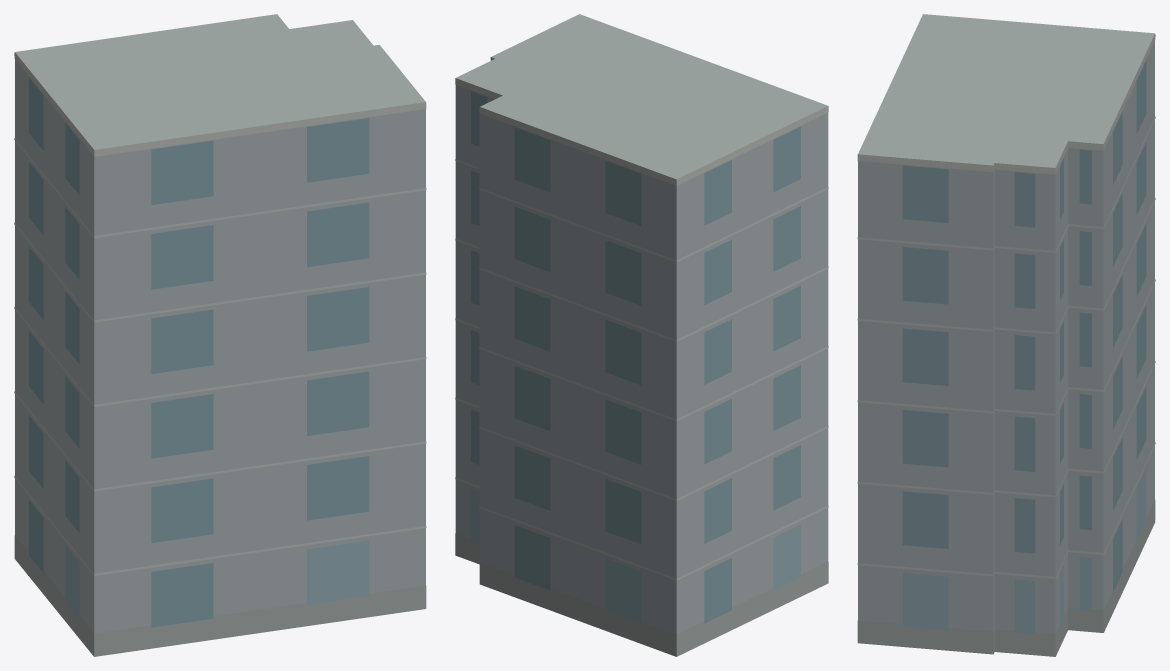
The model's file is survey-upis-33038206.glb.
3 renders of one model, left to right at view 1: azimuth 30°, elevation 25°; view 2: azimuth 150°, elevation 25°; view 3: azimuth 270°, elevation 25°, orthographic. The views are drawn at different scales.
Parts seen in each view (by area): view 1: survey-upis-33038206.tmp; view 2: survey-upis-33038206.tmp; view 3: survey-upis-33038206.tmp.
Part boxes in pixels (<box>): survey-upis-33038206.tmp: <box>14,14,426,656</box>; survey-upis-33038206.tmp: <box>455,14,828,656</box>; survey-upis-33038206.tmp: <box>857,14,1155,656</box>.
Bounding box in the file's own units: 12.15 × 17.95 × 9.92.
